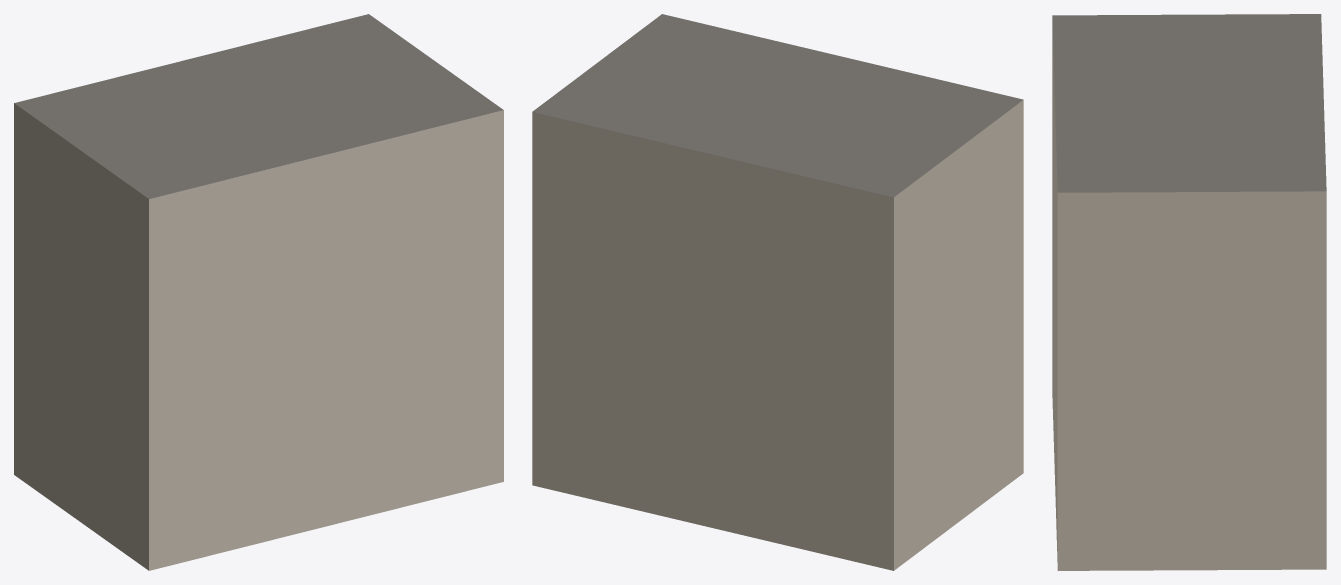
The picture shows the model from 3 angles, left to right: view 1: azimuth 30°, elevation 25°; view 2: azimuth 150°, elevation 25°; view 3: azimuth 270°, elevation 25°; orthographic projection.
Parts seen in each view (by area): view 1: HP-w1286955412; view 2: HP-w1286955412; view 3: HP-w1286955412.
Boxes of the visible parts, box(x1,y1,x2,y2) form: HP-w1286955412: box(14, 14, 503, 570); HP-w1286955412: box(532, 14, 1023, 570); HP-w1286955412: box(1052, 14, 1326, 570).
Bounding box in the file's own units: 18.25 × 18 × 11.83.
